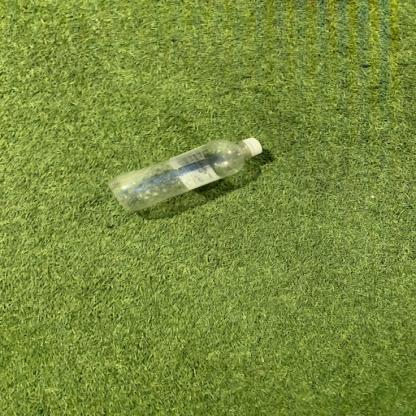trash: (101, 135, 269, 213)
